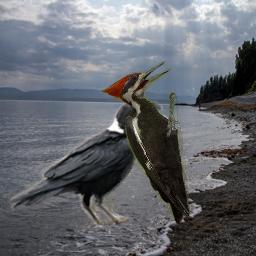Crow: (8, 94, 165, 230)
Woodpecker: (100, 61, 190, 225)
